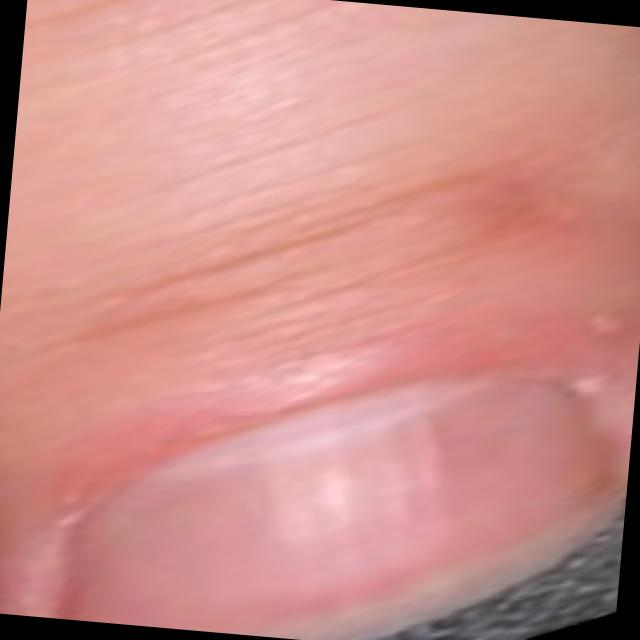Nail: (68, 383, 618, 640)
